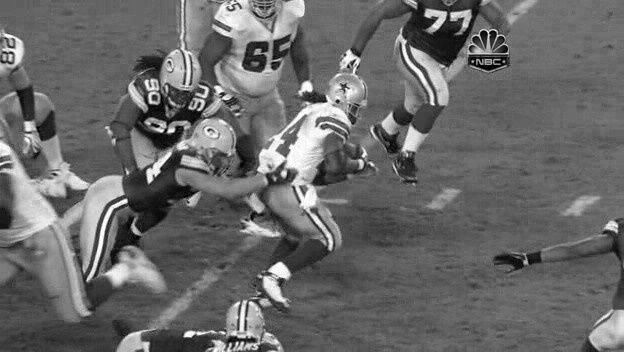person: (330, 74, 366, 119), (329, 74, 365, 119), (331, 74, 367, 119), (330, 73, 366, 118), (330, 75, 366, 120)
target_negative: (514, 97, 586, 345), (430, 114, 461, 287), (247, 136, 595, 142), (190, 270, 205, 339), (282, 226, 587, 228), (587, 196, 602, 215)
